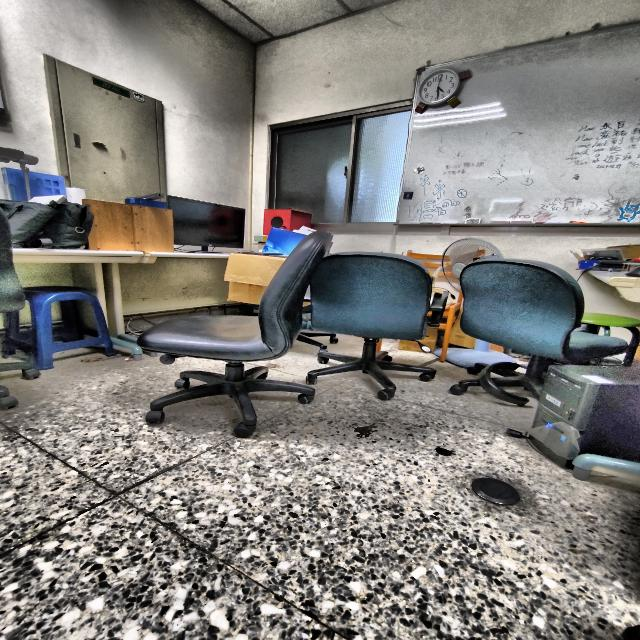cadeira: (132, 217, 333, 438), (442, 243, 633, 410), (298, 239, 448, 399), (10, 270, 121, 378)
